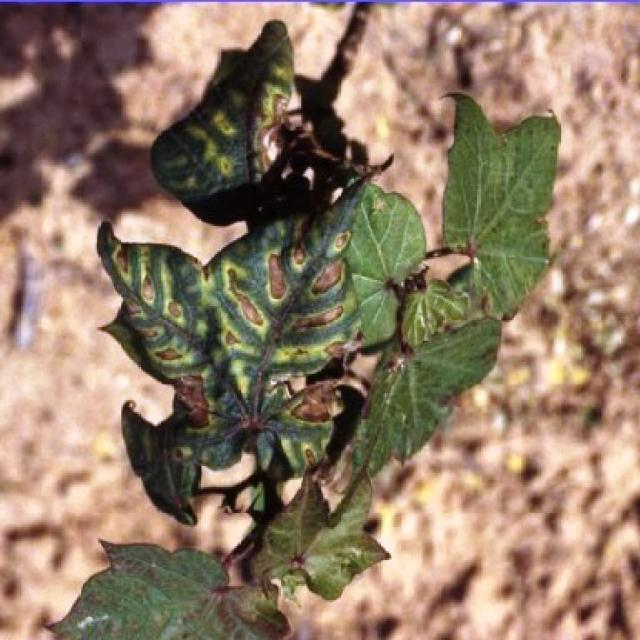Fusarium Wilt: (102, 17, 470, 640)
